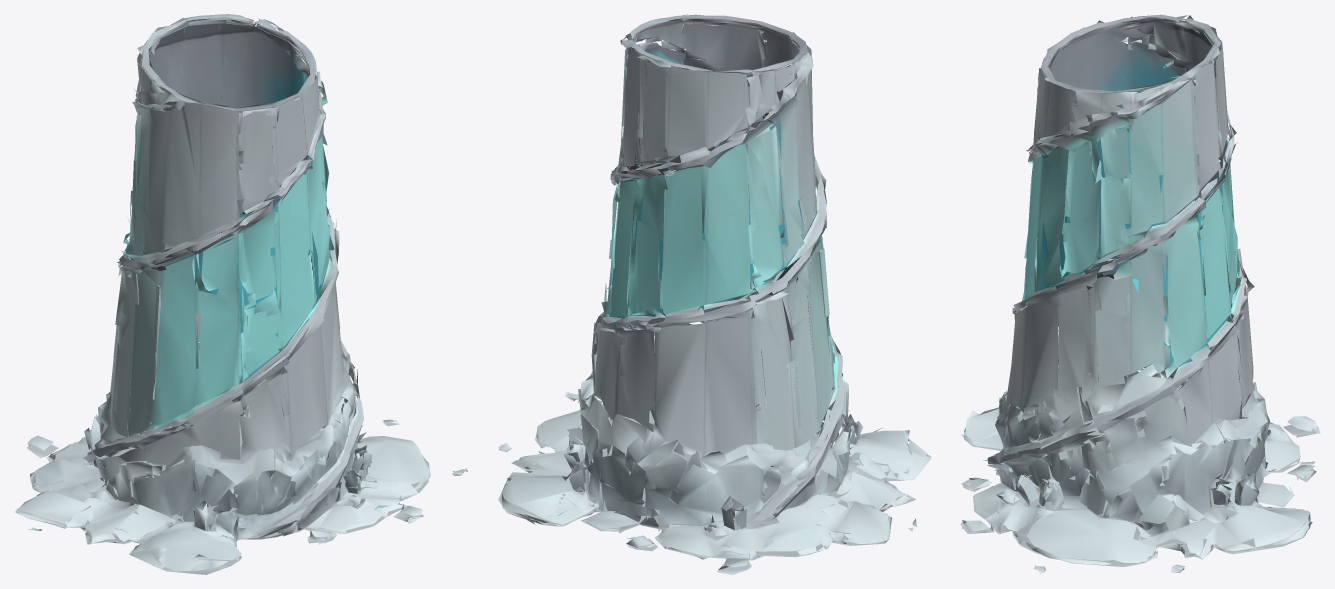
The model's file is spindle.glb.
3 renders of one model, left to right at view 1: azimuth 30°, elevation 25°; view 2: azimuth 150°, elevation 25°; view 3: azimuth 270°, elevation 25°, orthographic. The views are drawn at different scales.
Visible parts, largest first — view 1: spindle; view 2: spindle; view 3: spindle.
Part boxes in pixels (box(x1,y1,x2,y2)): spindle: box(15, 14, 467, 574); spindle: box(498, 14, 931, 574); spindle: box(960, 14, 1320, 574).
Bounding box in the file's own units: 0.8423 × 0.9108 × 0.6711.
Materials: 1 (1 with a texture image).
